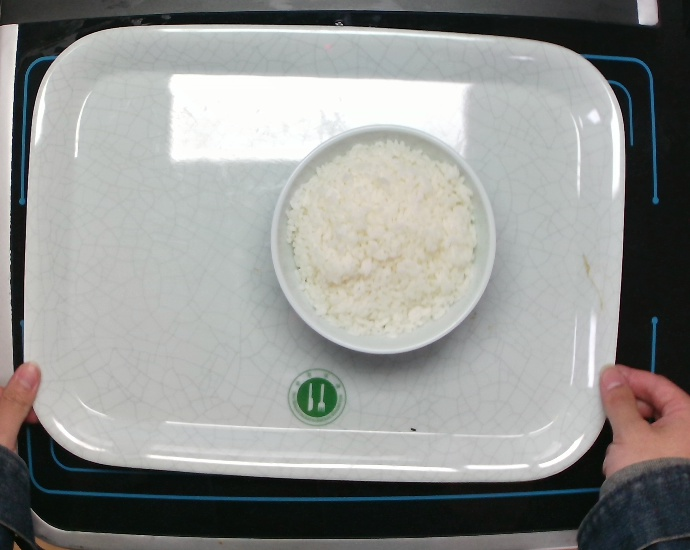JYsf-Fan_Wan: (268, 122, 498, 356)
